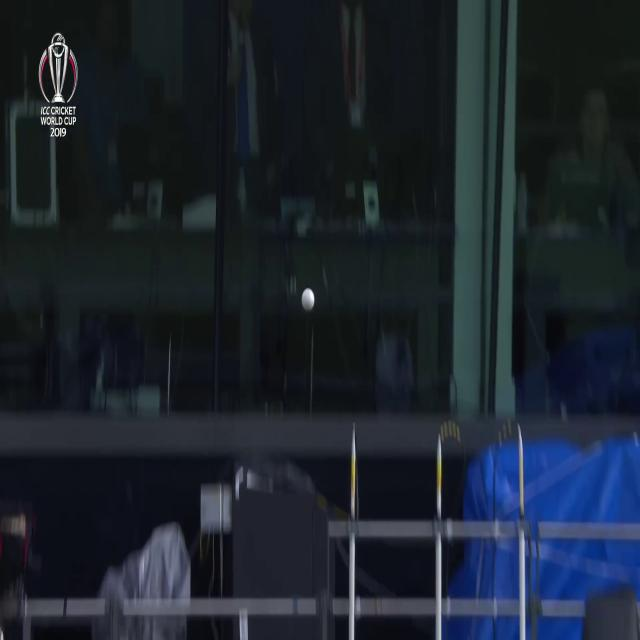ball: (298, 284, 318, 318)
